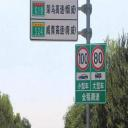speed_limit_100: (76, 46, 92, 72)
speed_limit_80: (92, 44, 106, 72)
